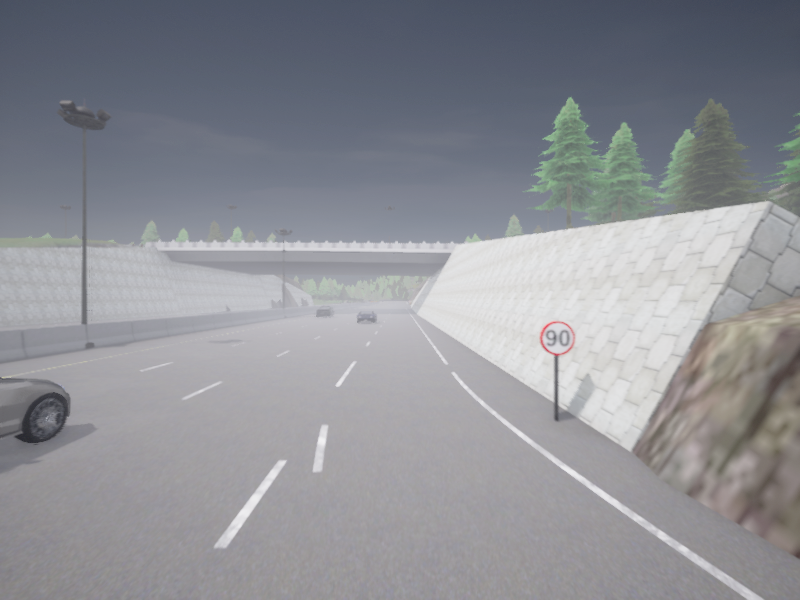vehicle: (0, 378, 70, 443), (357, 310, 376, 322), (316, 305, 333, 316)
